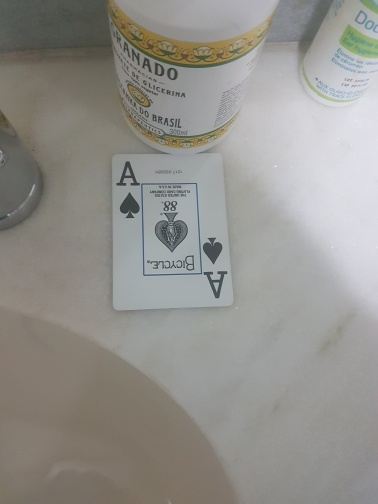ace: (111, 154, 235, 306)
